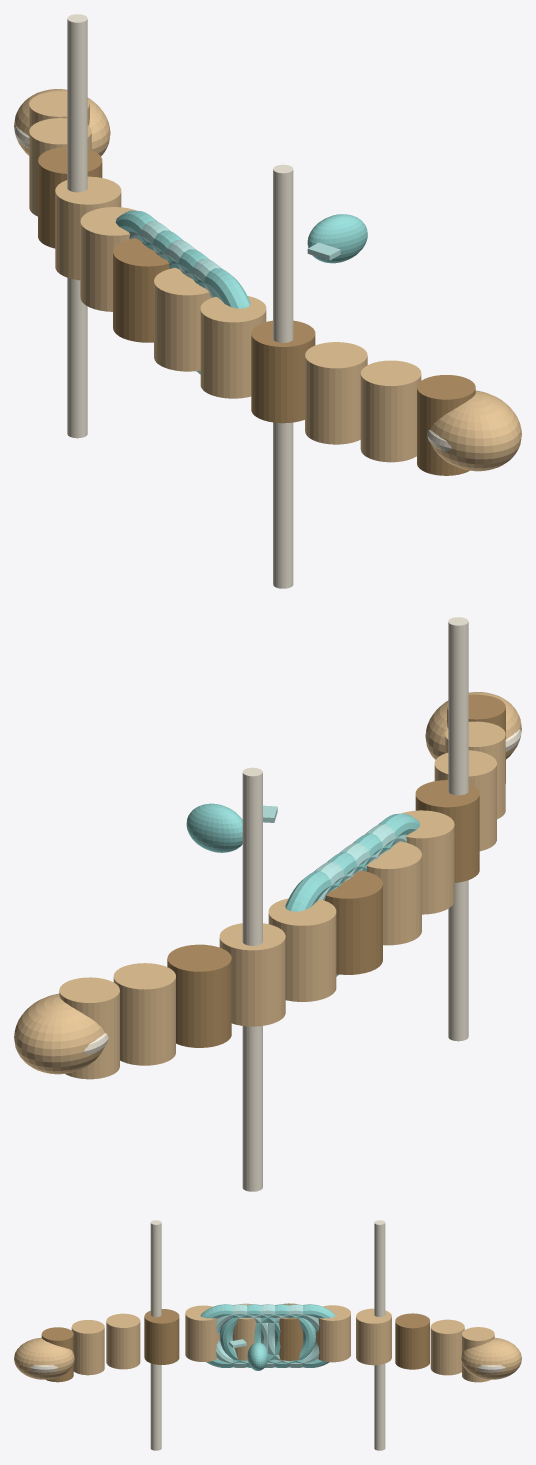
File: bow-blender-v1.glb
The picture shows the model from 3 angles, top to bottom: view 1: azimuth 30°, elevation 25°; view 2: azimuth 150°, elevation 25°; view 3: azimuth 270°, elevation 25°; orthographic projection. The views are drawn at different scales.
Visible parts, largest first — view 1: BowStringB, BowStringA, BowLimb_02, BowLimb_01, BowLimb_04, BowLimb_03, BowTip_-1, BowLimb_05, BowLimb_06, BowLimb_07, BowLimb_08, BowLimb_00 (+7 smaller); view 2: BowStringA, BowStringB, BowLimb_09, BowLimb_10, BowLimb_08, BowLimb_07, BowTip_1, BowLimb_06, BowLimb_05, BowLimb_04, BowLimb_11, BowLimb_03 (+7 smaller); view 3: BowStringB, BowStringA, BowLimb_09, BowLimb_08, BowLimb_02, BowLimb_03, BowTip_-1, BowTip_1, BowLimb_10, BowLimb_01, BowLimb_07, BowLimb_04 (+12 smaller).
Boxes of the visible parts, x1=… form: BowStringB: x1=273, y1=164, x2=293, y2=588; BowStringA: x1=67, y1=14, x2=87, y2=438; BowLimb_02: x1=305, y1=342, x2=367, y2=444; BowLimb_01: x1=360, y1=360, x2=421, y2=462; BowLimb_04: x1=200, y1=296, x2=266, y2=398; BowLimb_03: x1=251, y1=320, x2=315, y2=423; BowTip_-1: x1=430, y1=390, x2=521, y2=471; BowLimb_05: x1=154, y1=267, x2=211, y2=371; BowLimb_06: x1=113, y1=238, x2=169, y2=342; BowLimb_07: x1=80, y1=207, x2=135, y2=311; BowLimb_08: x1=55, y1=176, x2=121, y2=280; BowLimb_00: x1=417, y1=375, x2=475, y2=475; BowStringA: x1=242, y1=767, x2=262, y2=1191; BowStringB: x1=448, y1=617, x2=468, y2=1041; BowLimb_09: x1=167, y1=944, x2=231, y2=1047; BowLimb_10: x1=113, y1=963, x2=175, y2=1065; BowLimb_08: x1=219, y1=923, x2=285, y2=1026; BowLimb_07: x1=268, y1=898, x2=336, y2=1001; BowTip_1: x1=14, y1=993, x2=104, y2=1074; BowLimb_06: x1=325, y1=870, x2=382, y2=974; BowLimb_05: x1=366, y1=841, x2=421, y2=945; BowLimb_04: x1=401, y1=810, x2=454, y2=914; BowLimb_11: x1=59, y1=977, x2=119, y2=1079; BowLimb_03: x1=415, y1=780, x2=479, y2=882; BowStringB: x1=150, y1=1220, x2=161, y2=1450; BowStringA: x1=374, y1=1220, x2=385, y2=1450; BowLimb_09: x1=395, y1=1313, x2=429, y2=1369; BowLimb_08: x1=356, y1=1308, x2=391, y2=1365; BowLimb_02: x1=106, y1=1313, x2=140, y2=1369; BowLimb_03: x1=144, y1=1309, x2=179, y2=1364; BowTip_-1: x1=14, y1=1337, x2=74, y2=1379; BowTip_1: x1=461, y1=1338, x2=521, y2=1379; BowLimb_10: x1=430, y1=1319, x2=464, y2=1375; BowLimb_01: x1=71, y1=1320, x2=104, y2=1375; BowLimb_07: x1=315, y1=1305, x2=350, y2=1362; BowLimb_04: x1=185, y1=1305, x2=219, y2=1361.
Size of the model in its own units: 0.2754 by 0.4985 by 1.02.
